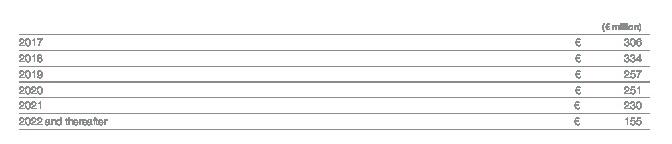table: (0, 0, 672, 144)
